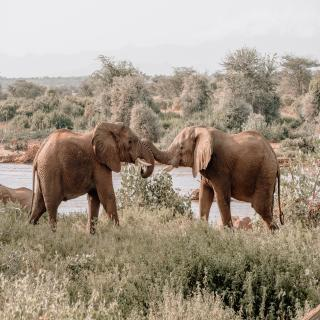Elephant: (142, 123, 290, 239), (23, 117, 156, 236)
